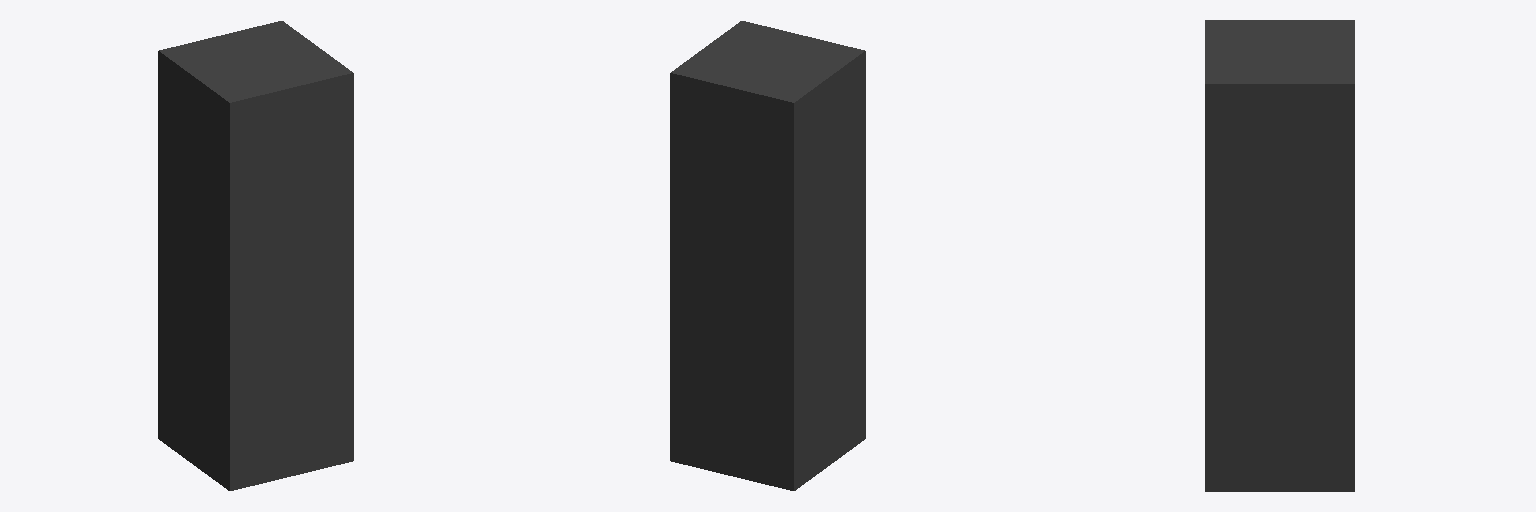
The robot description file, URDF, robot "box":
<?xml version='1.0' encoding='UTF-8'?>
<robot name="box">
  <link name="base_link">
    <inertial>
      <origin xyz="0.0 0.0 0.0" rpy="0.0 -0.0 0.0"/>
      <mass value="1.0"/>
      <inertia ixx="1.0" ixy="0.0" ixz="0.0" iyy="1.0" iyz="0.0" izz="1.0"/>
    </inertial>
    <visual name="base_link_visual">
      <geometry>
        <box size="1 1 3.0"/>
      </geometry>
      <material name="base_link_color">
        <color rgba="0.3 0.3 0.3 1"/>
      </material>
      <origin xyz="0 0 0" rpy="0 0 0"/>
    </visual>
    <collision name="base_link_collision">
      <geometry>
        <box size="1 1 3.0"/>
      </geometry>
      <origin xyz="0 0 0" rpy="0 0 0"/>
    </collision>
  </link>
</robot>

--- What the picture shows (computed from the rendered views, not written in the file) ---
The picture shows the robot from 3 angles, left to right: view 1: azimuth 30°, elevation 25°; view 2: azimuth 150°, elevation 25°; view 3: azimuth 270°, elevation 25°; orthographic projection.
Robot: box — 1 links, 0 joints (none); root link base_link; default pose: every joint at zero.
Visible links, largest first — view 1: base_link; view 2: base_link; view 3: base_link.
Link boxes in pixels (bbox=[...]): base_link: bbox=[158, 21, 353, 490]; base_link: bbox=[670, 21, 865, 490]; base_link: bbox=[1205, 20, 1354, 491].
Bounding box of the posed robot: 1 × 1 × 3 m (x, y, z).
Geometry: primitives only (box / cylinder / sphere), no mesh files.